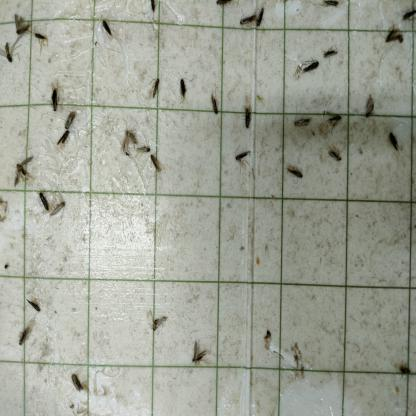prays_oleae: (234, 96, 262, 141), (239, 7, 266, 45), (285, 152, 308, 196), (229, 136, 253, 176), (200, 90, 228, 124), (100, 12, 121, 50), (14, 154, 36, 190), (294, 58, 324, 83), (323, 148, 354, 172), (320, 41, 342, 71), (142, 69, 163, 99), (66, 369, 89, 396), (13, 321, 34, 350), (291, 108, 314, 134), (146, 311, 168, 338), (1, 38, 22, 66), (383, 127, 401, 158), (23, 291, 42, 320), (51, 130, 76, 151), (384, 23, 403, 50), (49, 194, 69, 218), (190, 340, 206, 368), (176, 70, 190, 100), (47, 82, 60, 114), (13, 15, 32, 36), (36, 190, 50, 217), (122, 128, 136, 153), (135, 142, 150, 162), (329, 114, 345, 132), (150, 156, 162, 175), (64, 110, 78, 126), (366, 97, 376, 112)
